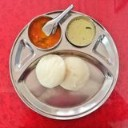idly: (36, 56, 65, 86), (62, 56, 88, 89)
